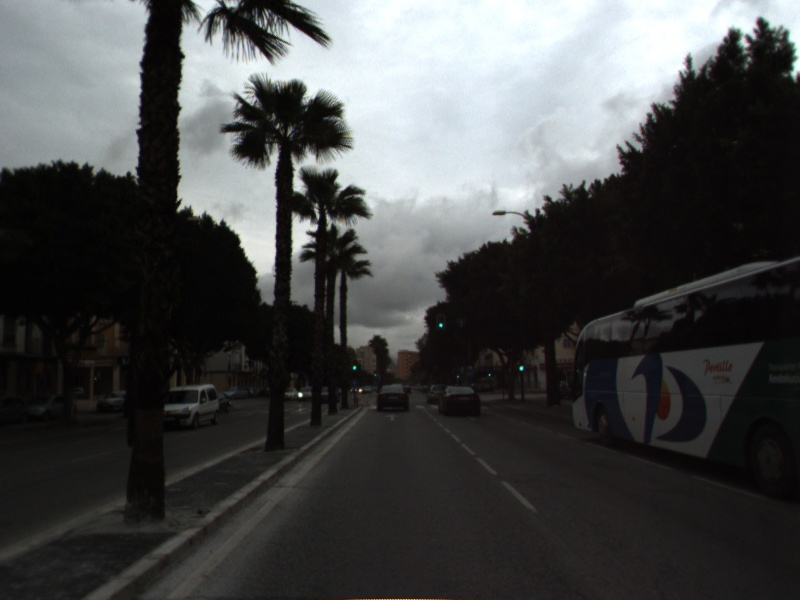STRAIGHT: (383, 411, 401, 423)
